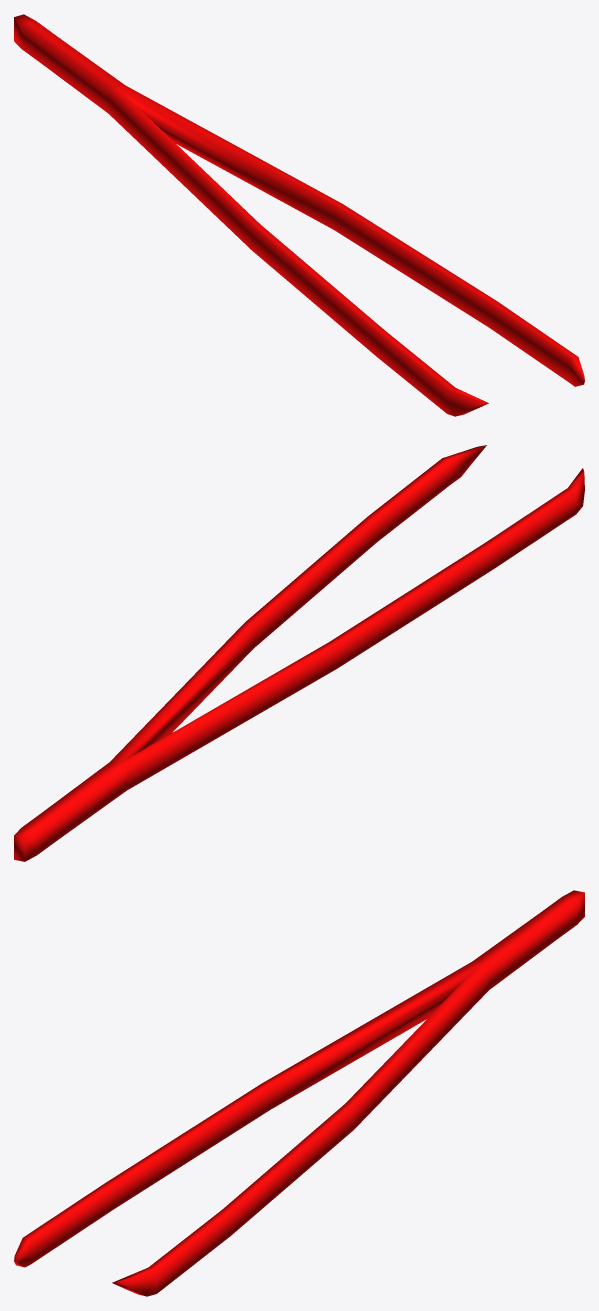
File: Tweezers.fbx
3 renders of one model, top to bottom at view 1: azimuth 30°, elevation 25°; view 2: azimuth 150°, elevation 25°; view 3: azimuth 330°, elevation 25°, orthographic.
Parts seen in each view (by area): view 1: Tweezers; view 2: Tweezers; view 3: Tweezers.
Boxes of the visible parts, x1,y1,x2,y2 form: Tweezers: [14, 14, 584, 416]; Tweezers: [14, 445, 584, 861]; Tweezers: [14, 890, 584, 1296].
Size of the model in its own units: 1.3 by 0.2262 by 8.75.
